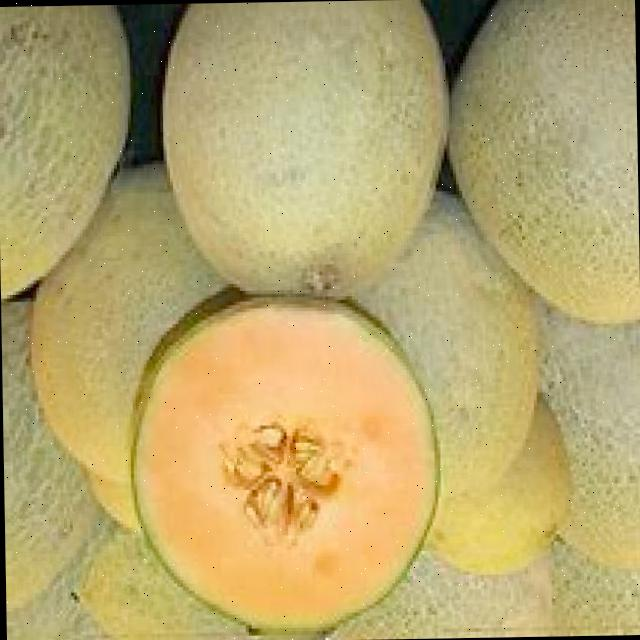Hami Melon: (129, 296, 432, 637), (163, 0, 450, 296), (23, 162, 244, 482), (447, 0, 640, 323), (342, 191, 542, 502)
